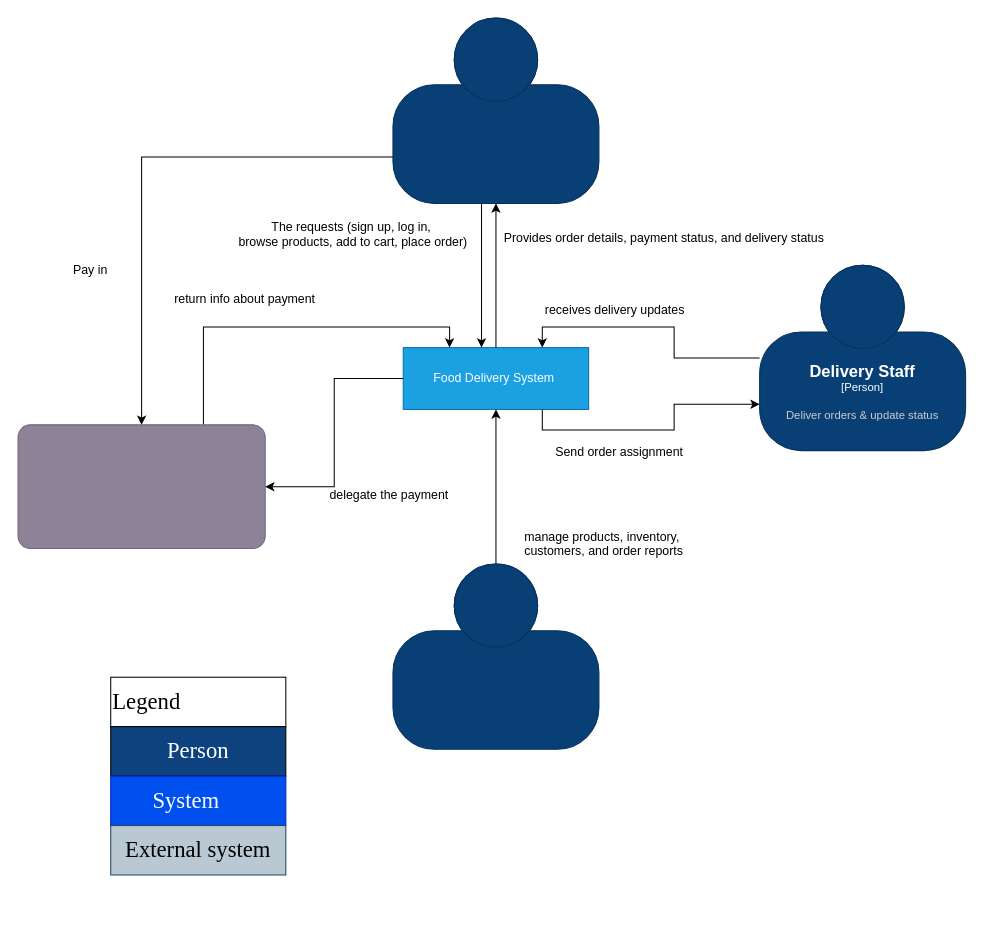
Image size: 984x942. Some labels were removed from this diagram. Each missing label, with the box of its shape:
Customer [Person] Place order / Payment / Track order: (392, 17, 599, 203)
Payment gateway [External System]: (17, 424, 265, 548)
SysAdmin [Person] Manage products, inventory, carts, and order statuses.: (392, 563, 599, 749)
